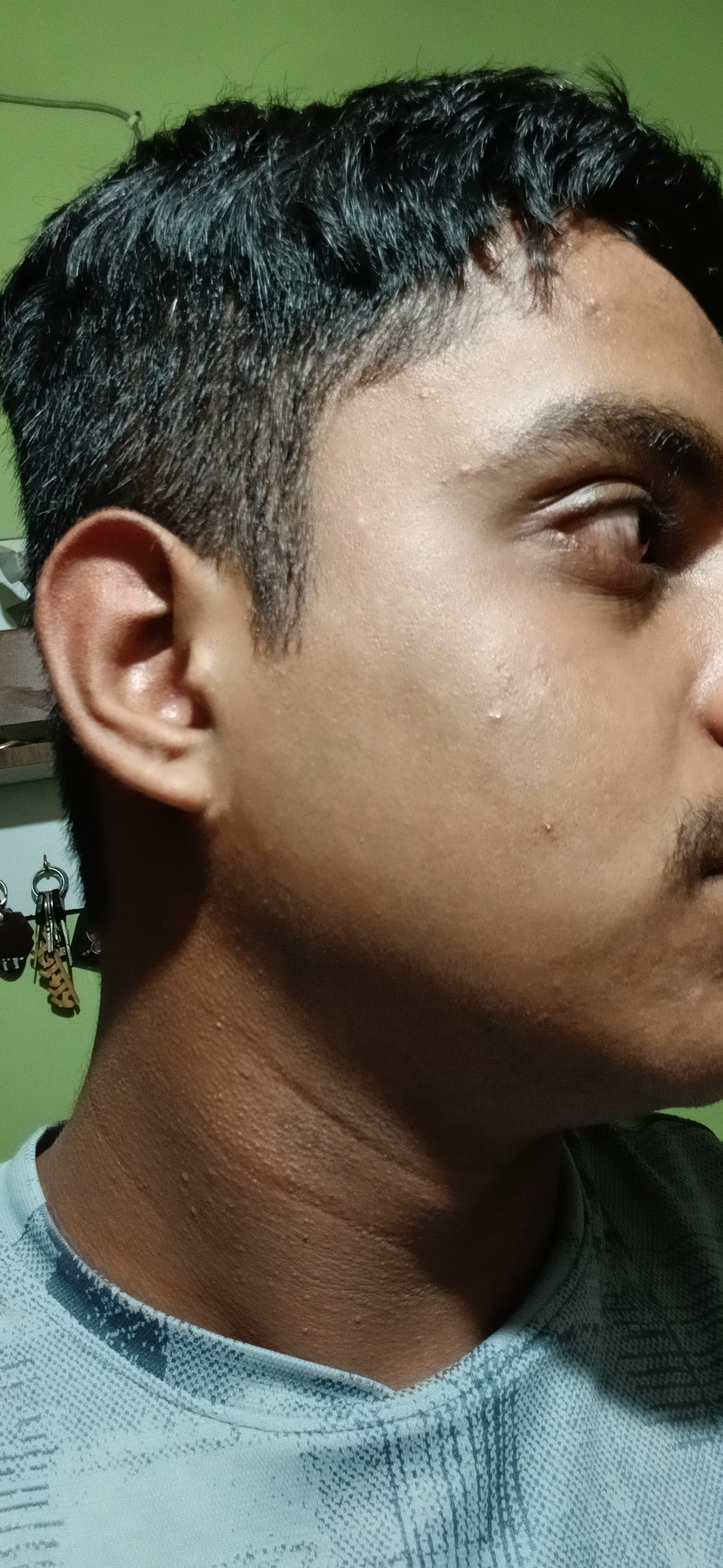macrocomedone: (456, 457, 476, 486)
papule: (485, 702, 513, 727)
pustule: (539, 815, 560, 838)
